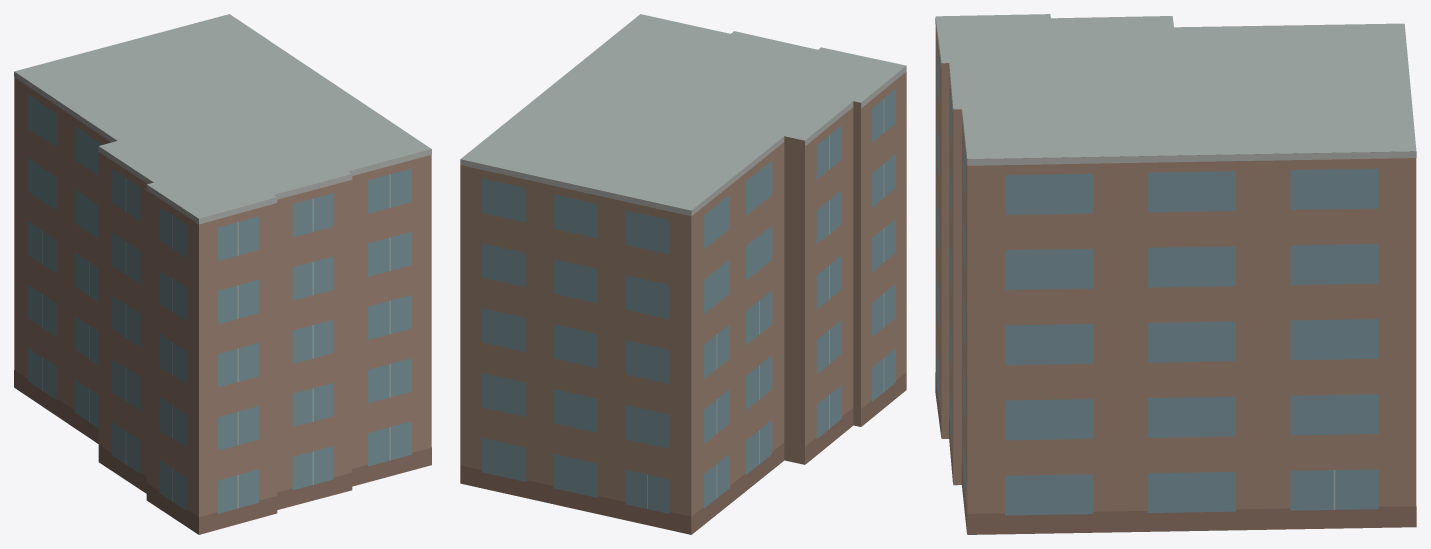
File: survey-upis-32602242.glb
3 views of the same model, side by side, from view 1: azimuth 30°, elevation 25°; view 2: azimuth 150°, elevation 25°; view 3: azimuth 270°, elevation 25° (orthographic). The views are drawn at different scales.
Parts seen in each view (by area): view 1: survey-upis-32602242.tmp; view 2: survey-upis-32602242.tmp; view 3: survey-upis-32602242.tmp.
Boxes of the visible parts, x1=… form: survey-upis-32602242.tmp: x1=14, y1=14, x2=431, y2=534; survey-upis-32602242.tmp: x1=460, y1=14, x2=906, y2=534; survey-upis-32602242.tmp: x1=935, y1=14, x2=1416, y2=534.
Bounding box in the file's own units: 11.35 × 13.7 × 15.9.
